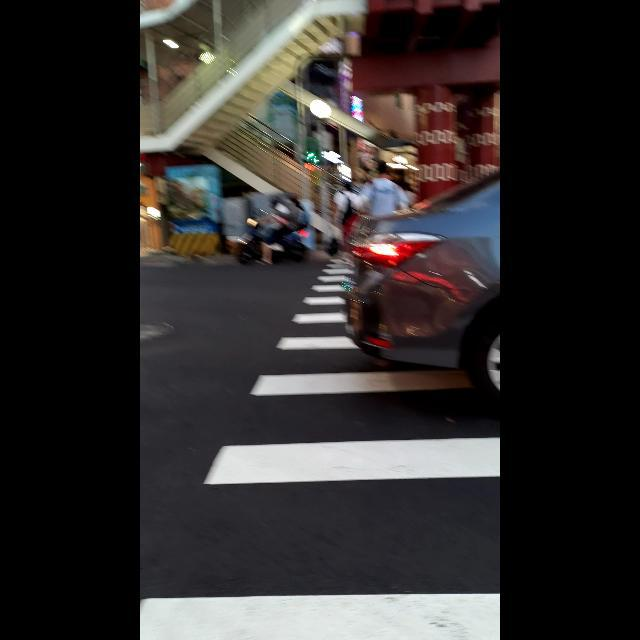sidewalk: (140, 254, 499, 640)
